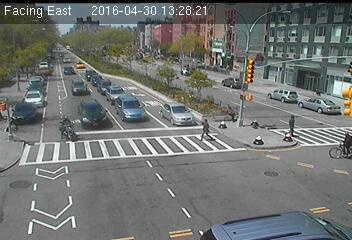neg: (255, 166, 295, 219), (103, 58, 135, 101), (138, 151, 169, 193), (18, 154, 49, 196), (97, 132, 127, 171), (189, 42, 218, 81), (199, 179, 227, 217), (323, 124, 350, 161), (69, 185, 94, 218), (243, 57, 267, 90), (56, 110, 80, 142), (35, 50, 56, 78), (307, 57, 321, 75), (250, 136, 263, 154)
pos: (194, 115, 213, 141), (285, 112, 303, 137)
